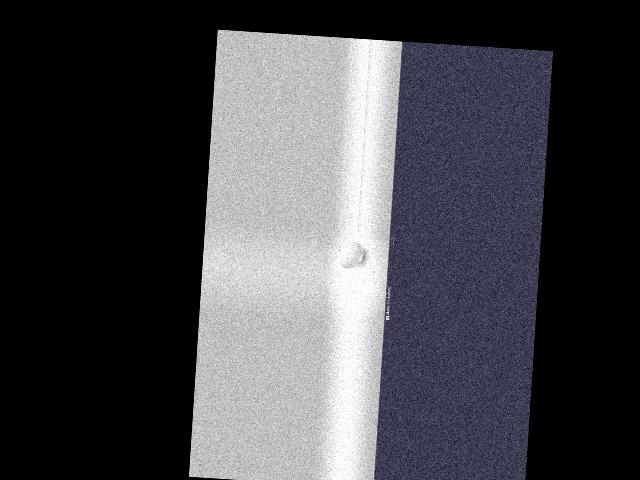egg: (338, 240, 365, 269)
